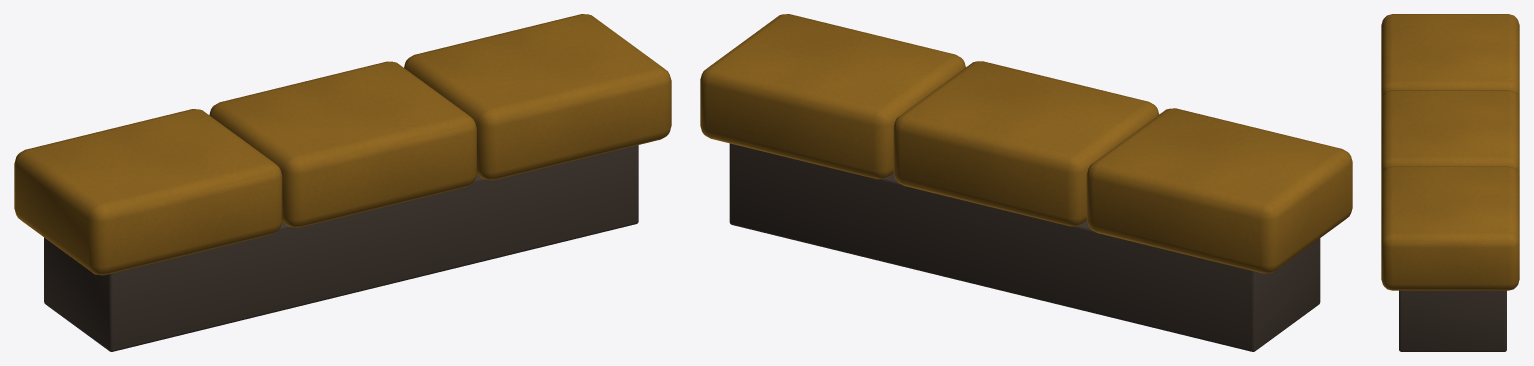
The model's file is guest-bench.glb.
3 renders of one model, left to right at view 1: azimuth 30°, elevation 25°; view 2: azimuth 150°, elevation 25°; view 3: azimuth 270°, elevation 25°, orthographic. The views are drawn at different scales.
Visible parts, largest first — view 1: plinth, cushion, cushion.001, cushion.002; view 2: plinth, cushion, cushion.001, cushion.002; view 3: cushion.002, cushion.001, cushion, plinth.
Boxes of the visible parts, x1,y1,x2,y2 form: plinth: (44,145,638,351); cushion: (14,109,282,275); cushion.001: (209,61,476,227); cushion.002: (404,14,671,180); plinth: (729,143,1320,351); cushion: (1086,108,1352,273); cushion.001: (893,61,1159,226); cushion.002: (700,14,965,179); cushion.002: (1381,166,1519,290); cushion.001: (1381,90,1519,176); cushion: (1381,14,1519,100); plinth: (1399,290,1506,351).
Size of the model in its own units: 2.14 by 0.55 by 0.55.
Materials: 2 (1 with a texture image).
